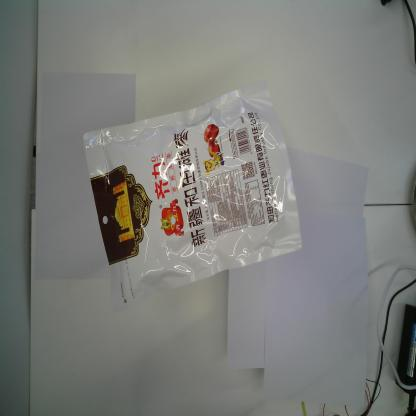Dried Food: (81, 78, 304, 317)
